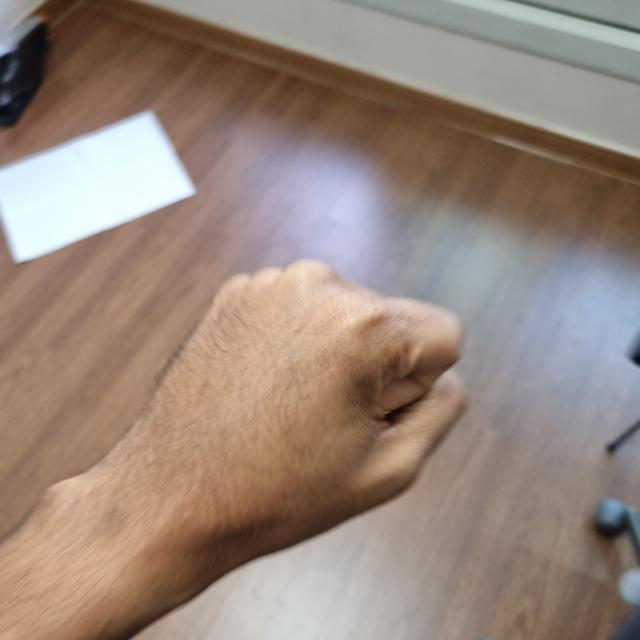Rock: (99, 265, 465, 566)
